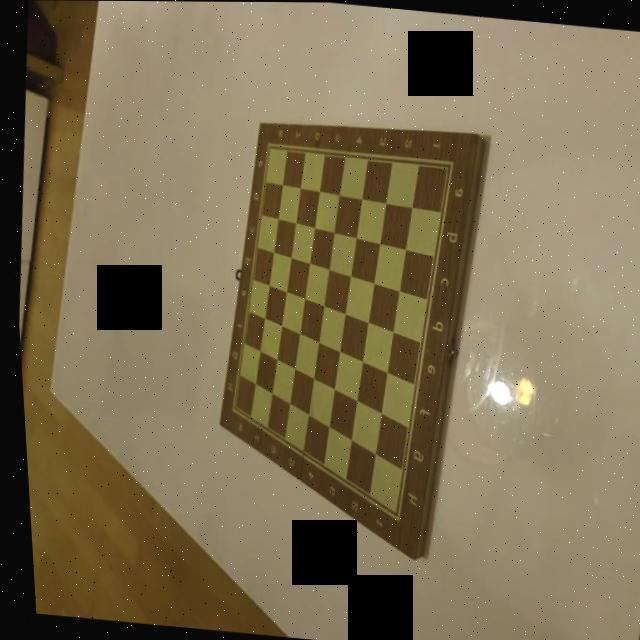chess-table-corners: (383, 508, 396, 524), (442, 154, 455, 170), (260, 138, 272, 154), (224, 400, 234, 414)
